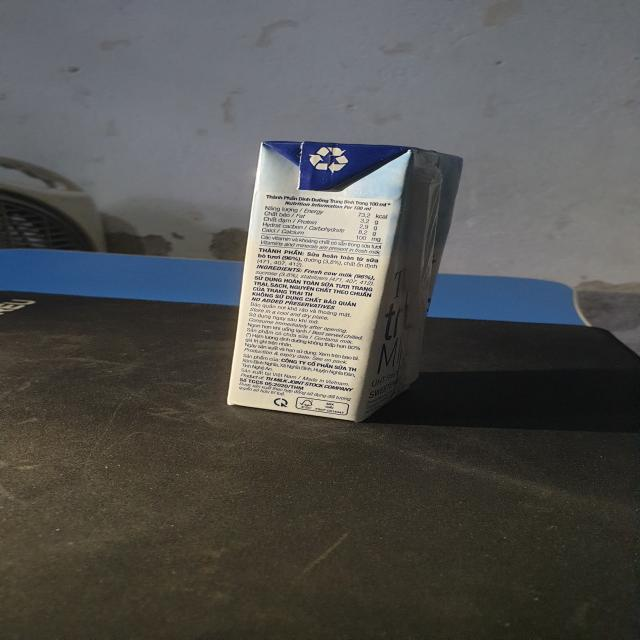TH: (228, 142, 464, 422)
